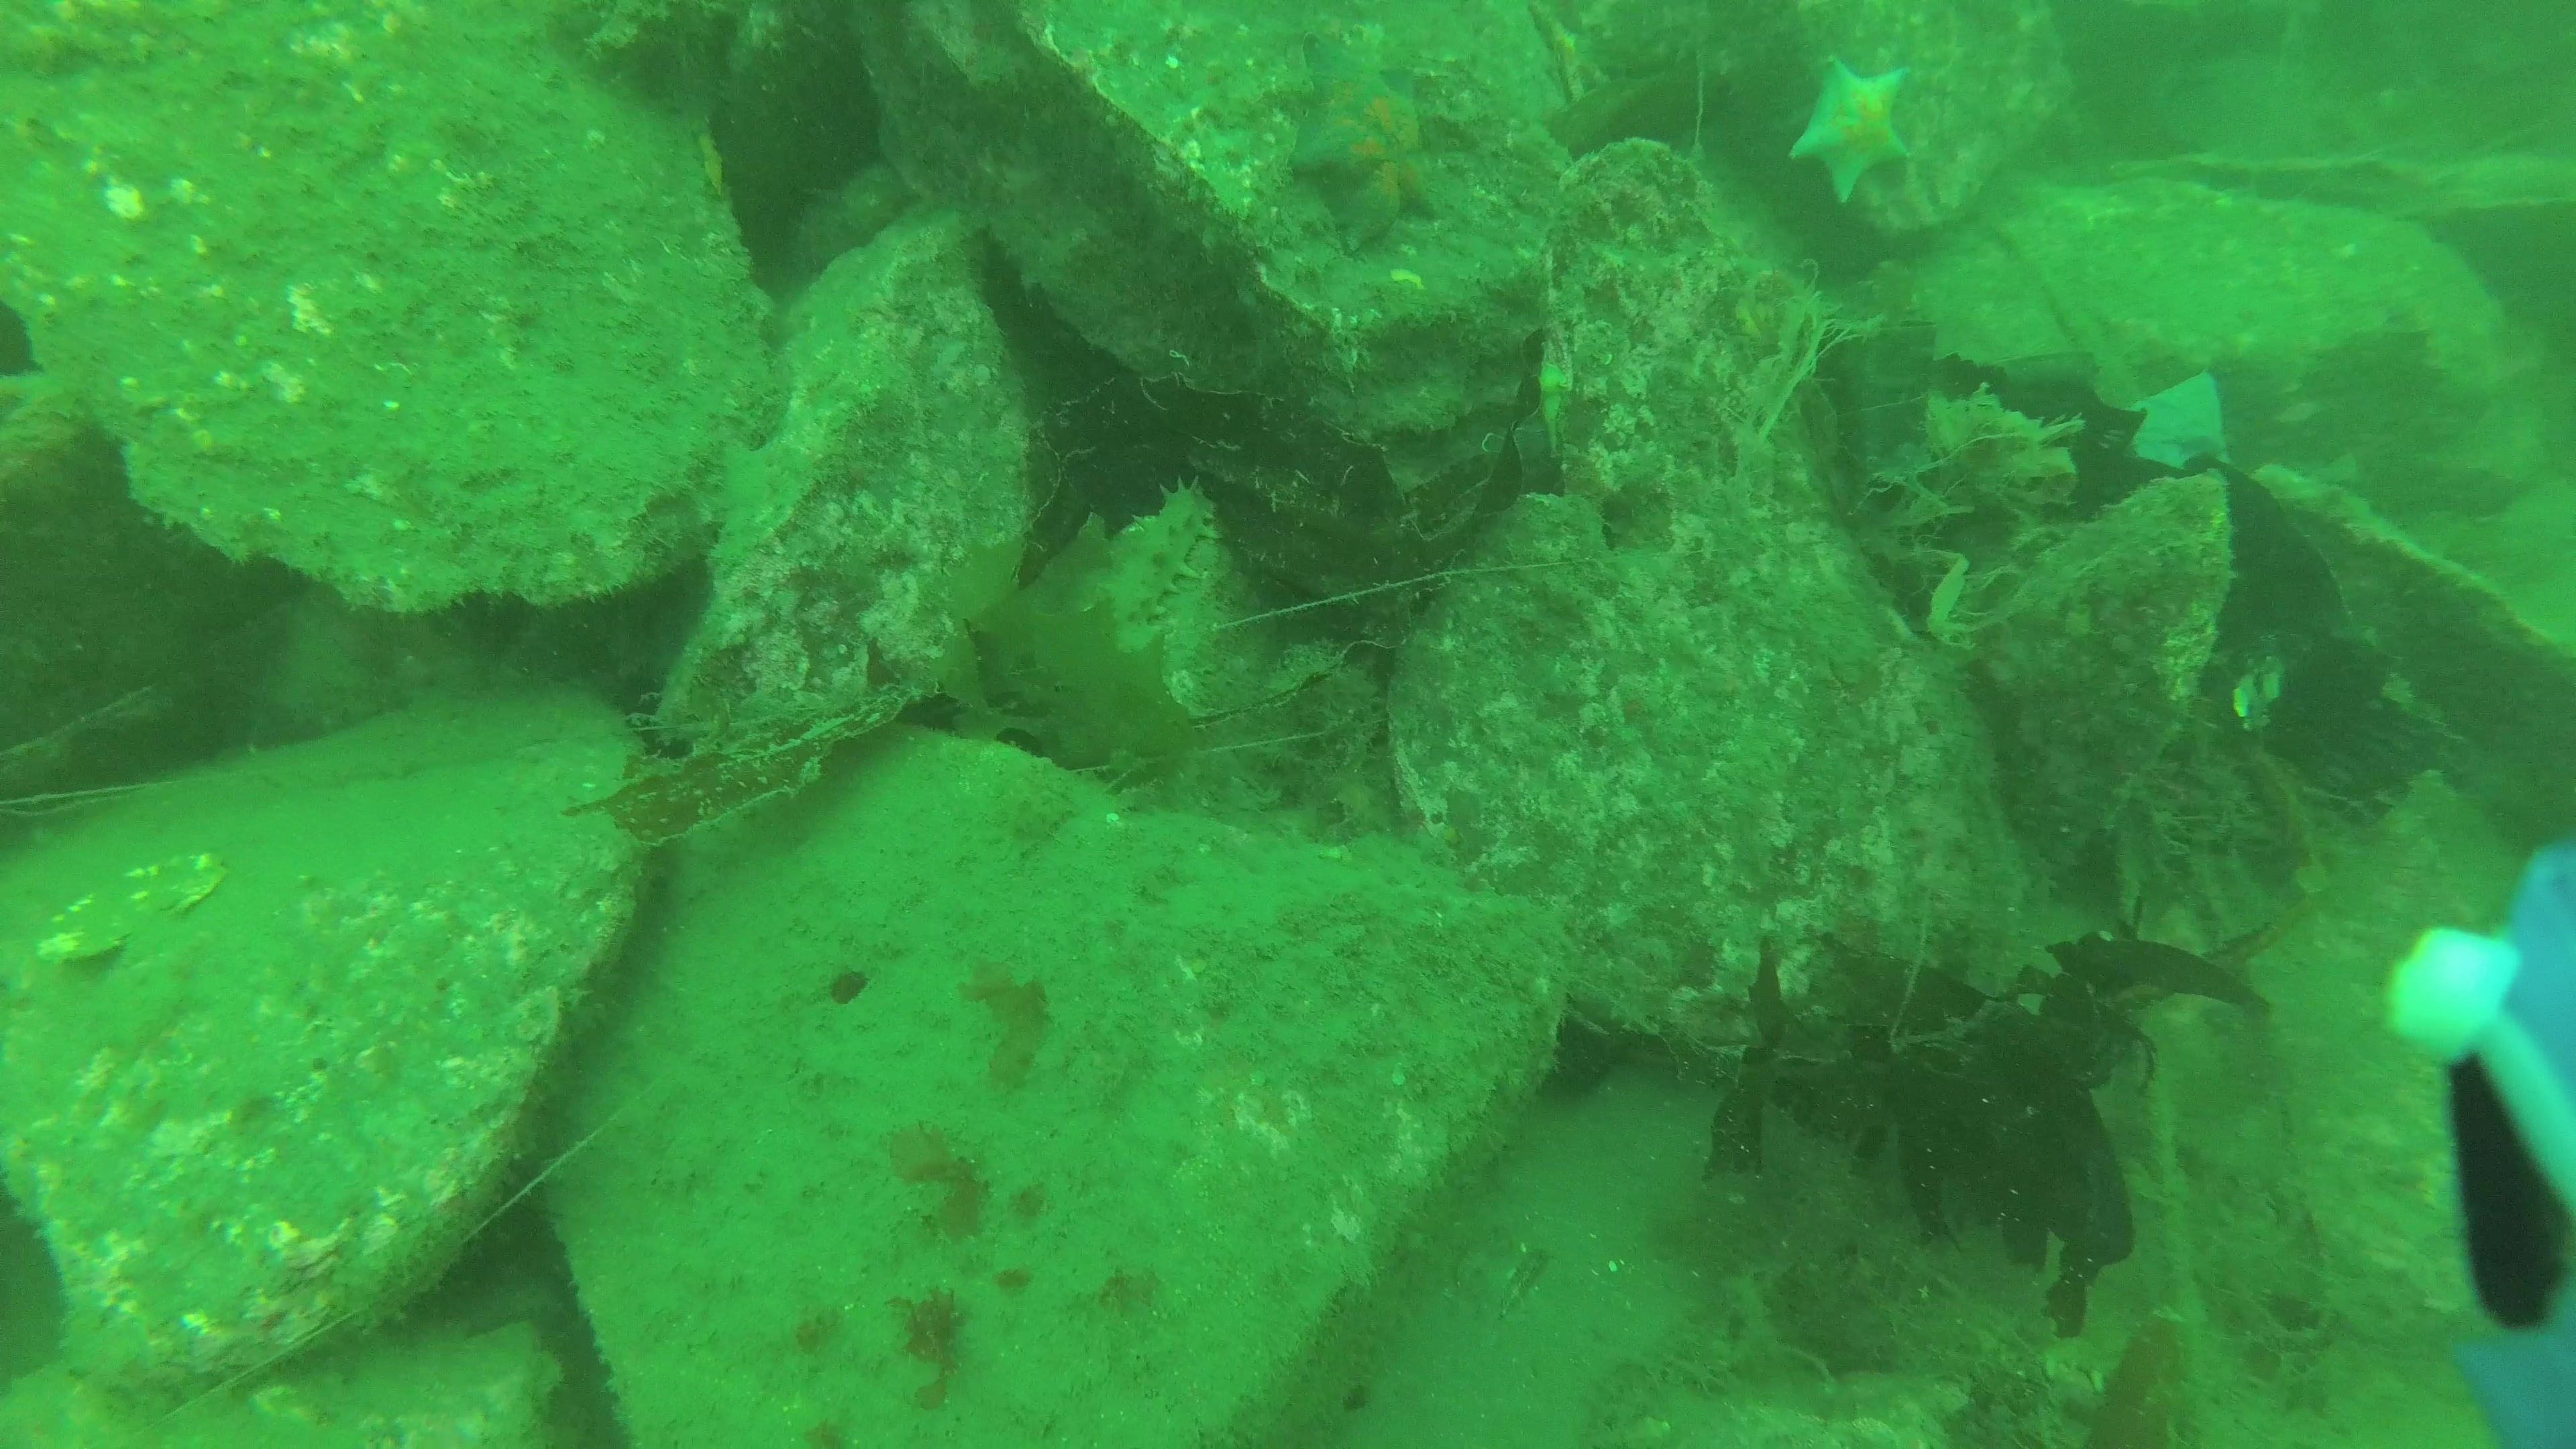holothurian: (1108, 471, 1217, 626)
starfish: (1288, 32, 1449, 257), (1776, 48, 1918, 205)
